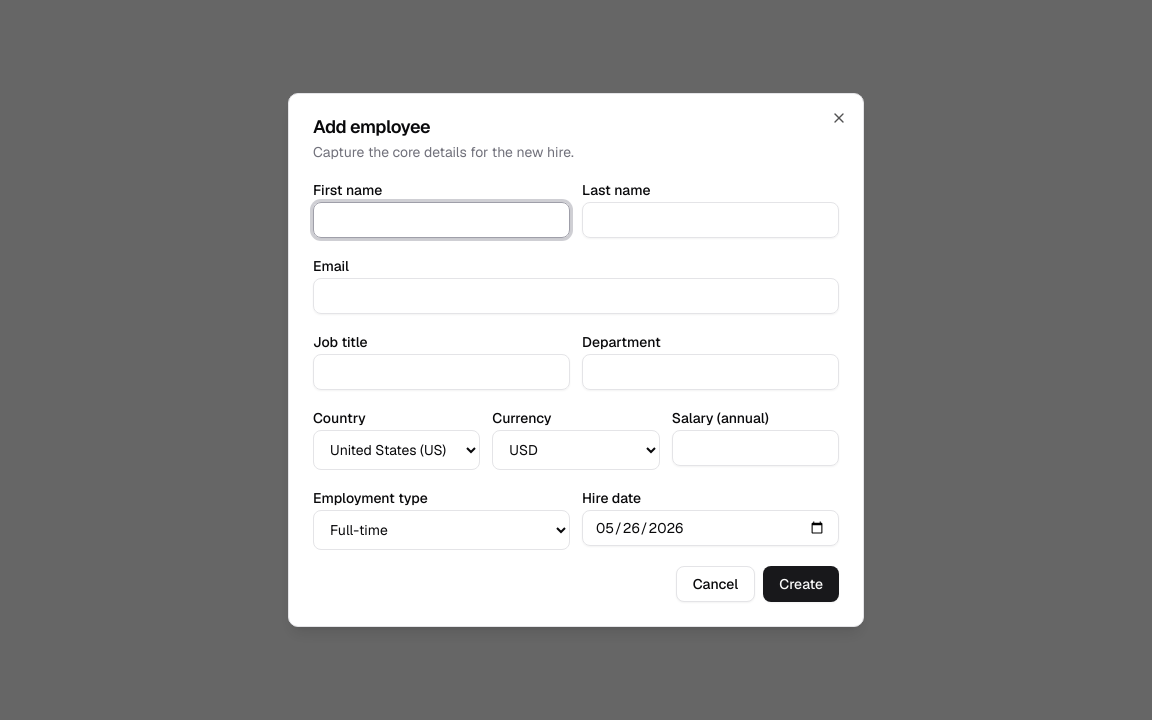
Test: EmployeeFormDialog (create) › shows an inline error when the API returns 409 for a duplicate email
The image size is (1152, 720).
In the field labelled "First name": (442, 220) left=313, top=202, right=570, bottom=238, type "Ada"
In the field labelled "Last name": (710, 220) left=582, top=202, right=839, bottom=238, type "Lovelace"
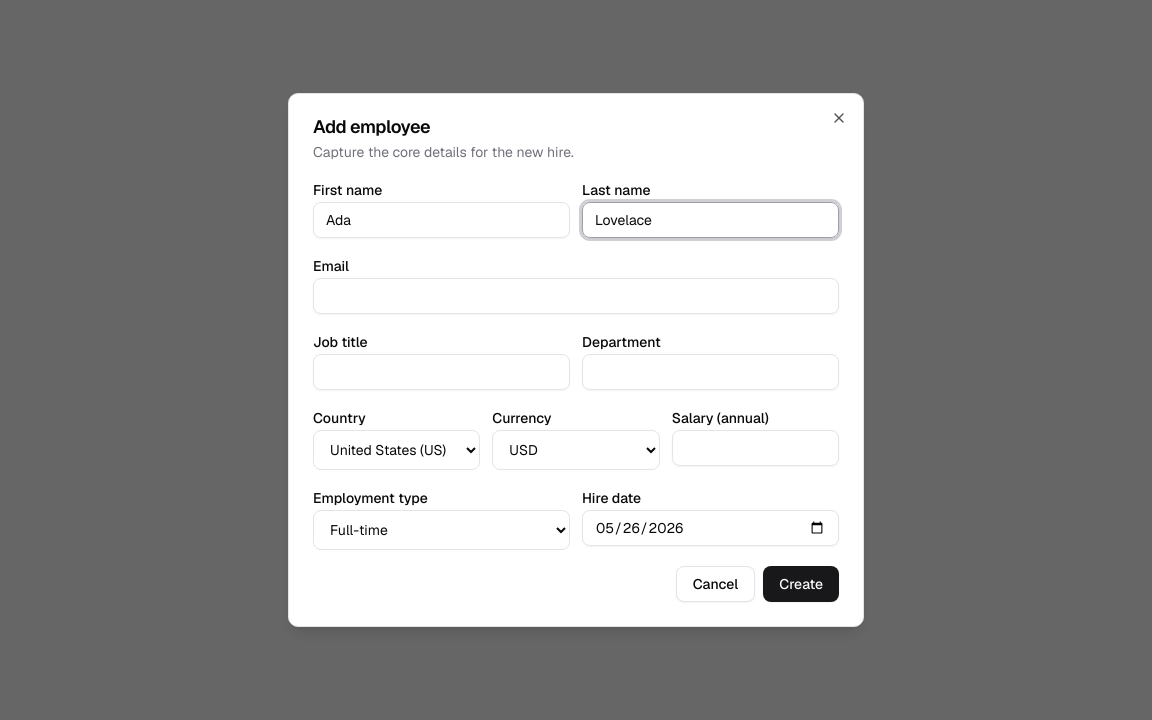
In the field labelled "Email": (576, 296) left=313, top=278, right=839, bottom=314, type "ada@example.com"
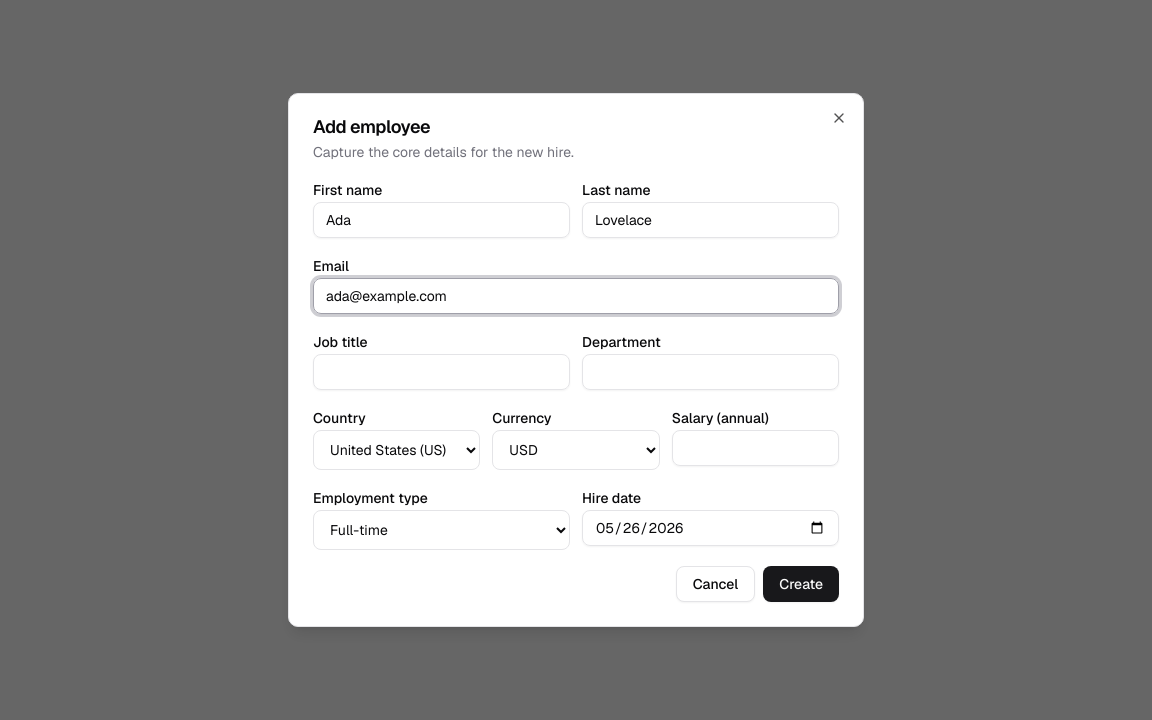
In the field labelled "Job title": (442, 372) left=313, top=354, right=570, bottom=390, type "Software Engineer"
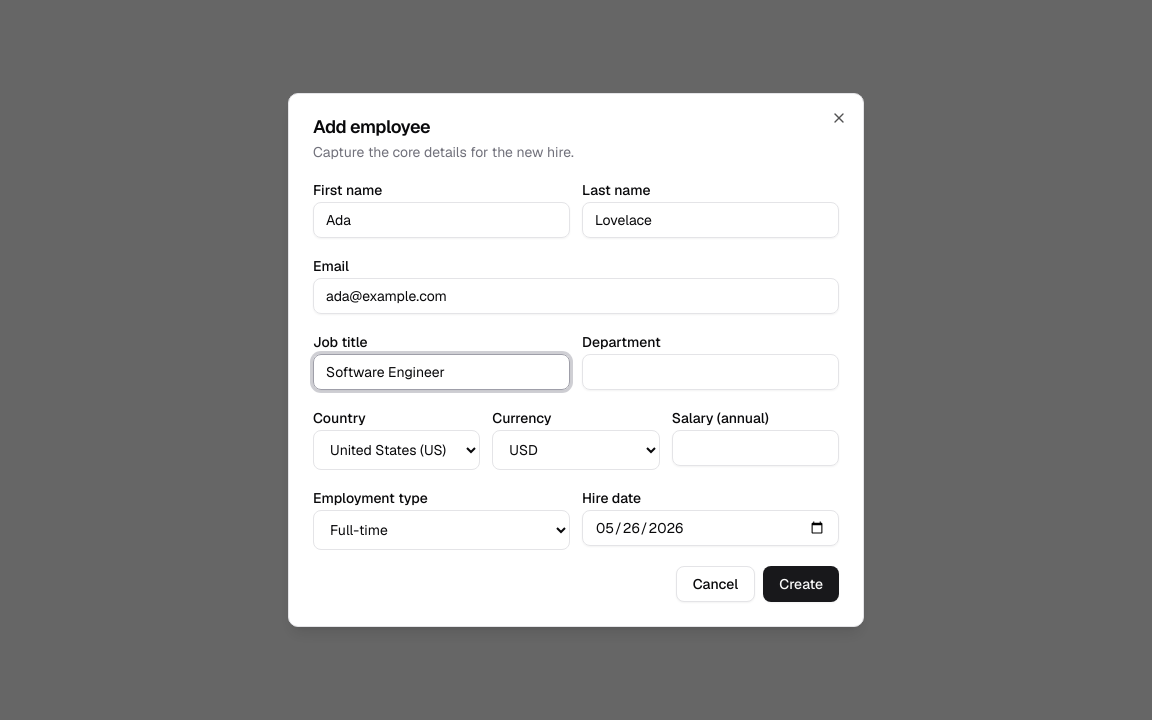
In the field labelled "Department": (710, 372) left=582, top=354, right=839, bottom=390, type "Engineering"
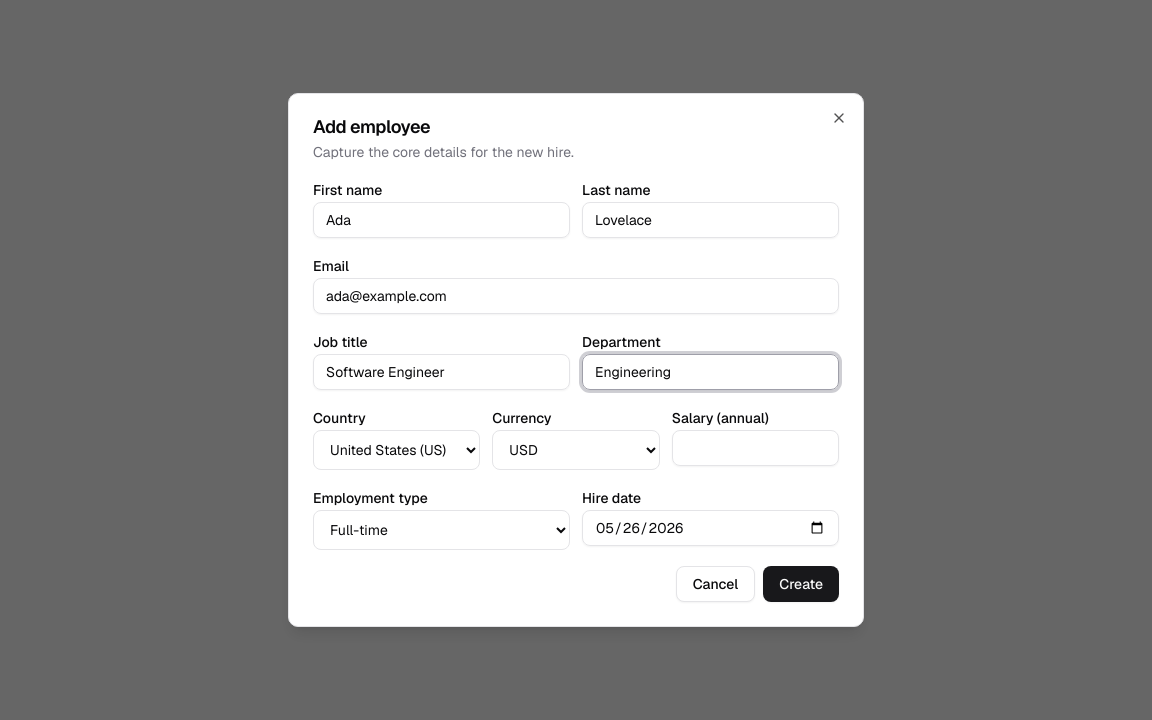
In the number field labelled "Salary (annual)": (755, 448) left=672, top=430, right=839, bottom=466, type "120000"
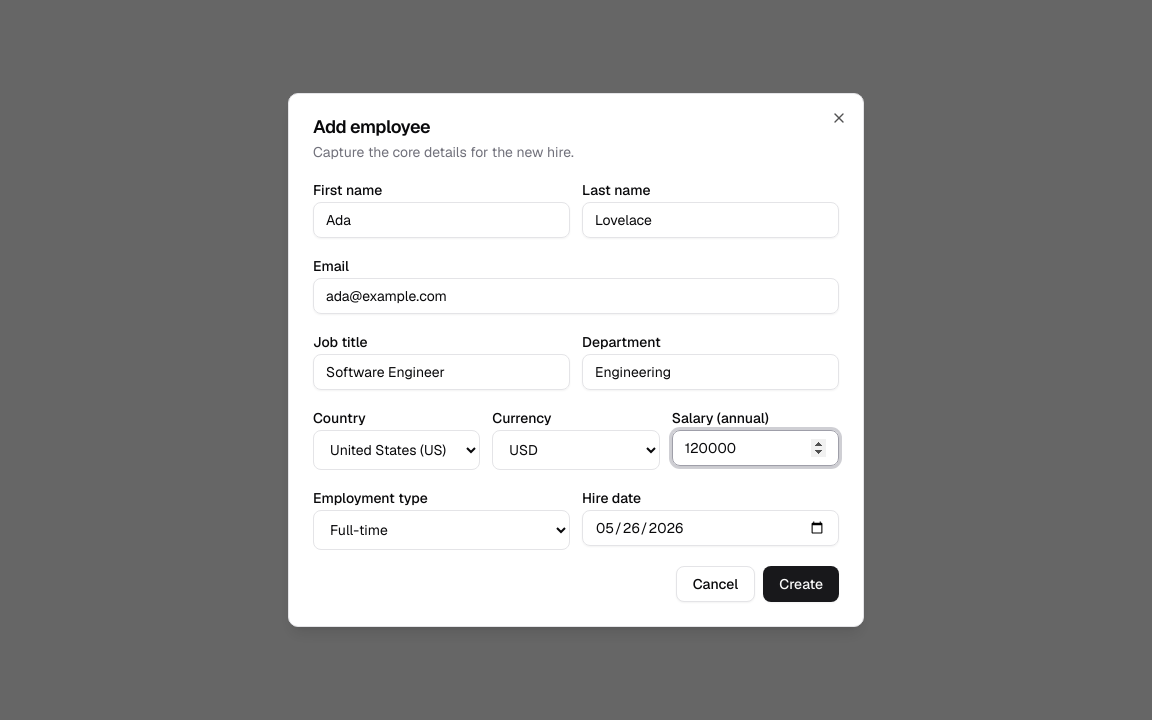
Click the button "Create": (801, 584) left=763, top=566, right=839, bottom=602
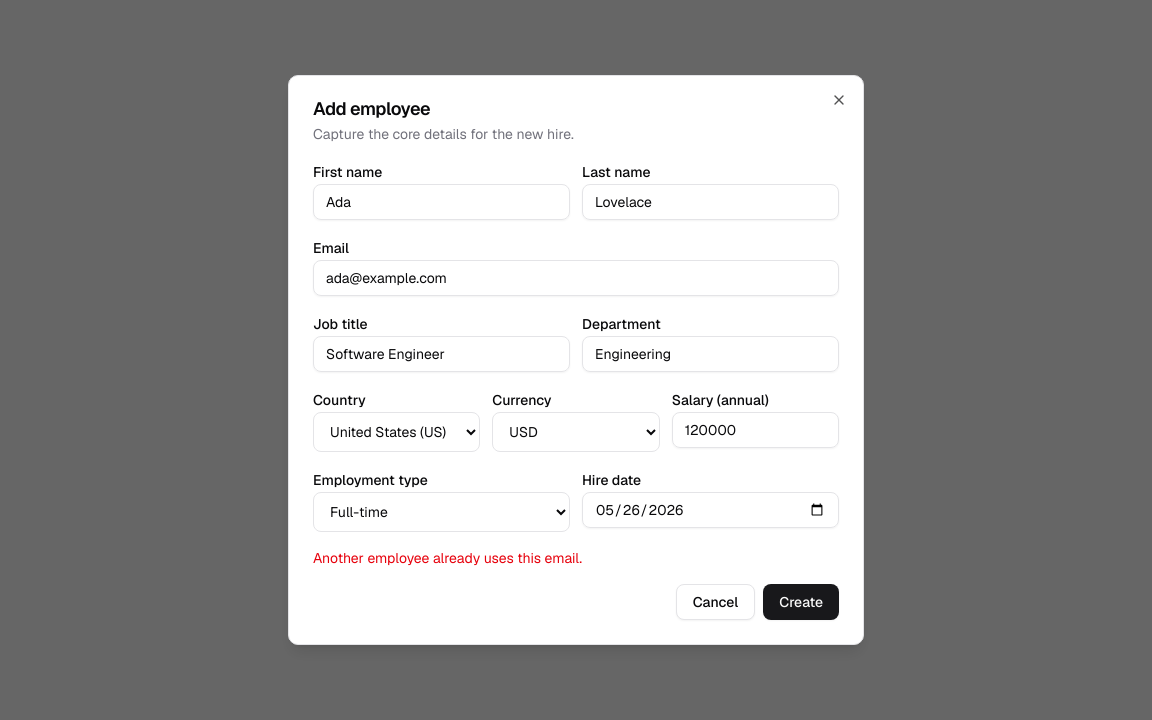
Expected: the text "Another employee already uses this email." is shown, left=313, top=549, right=582, bottom=567
